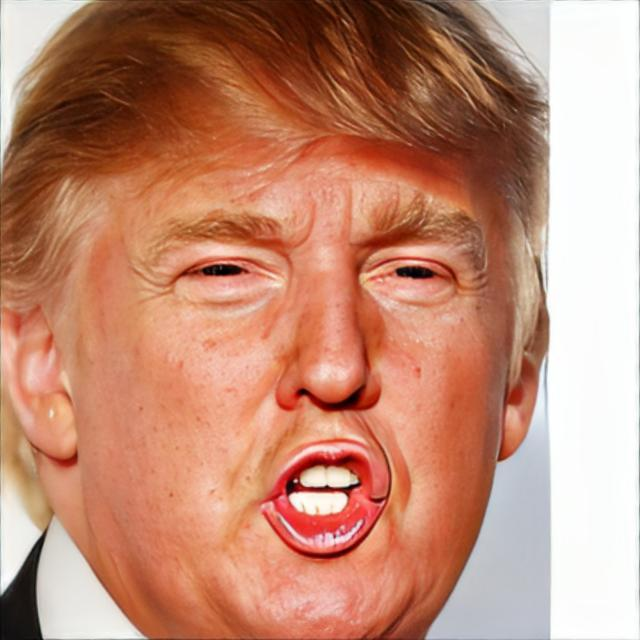anger: (73, 69, 515, 640)
